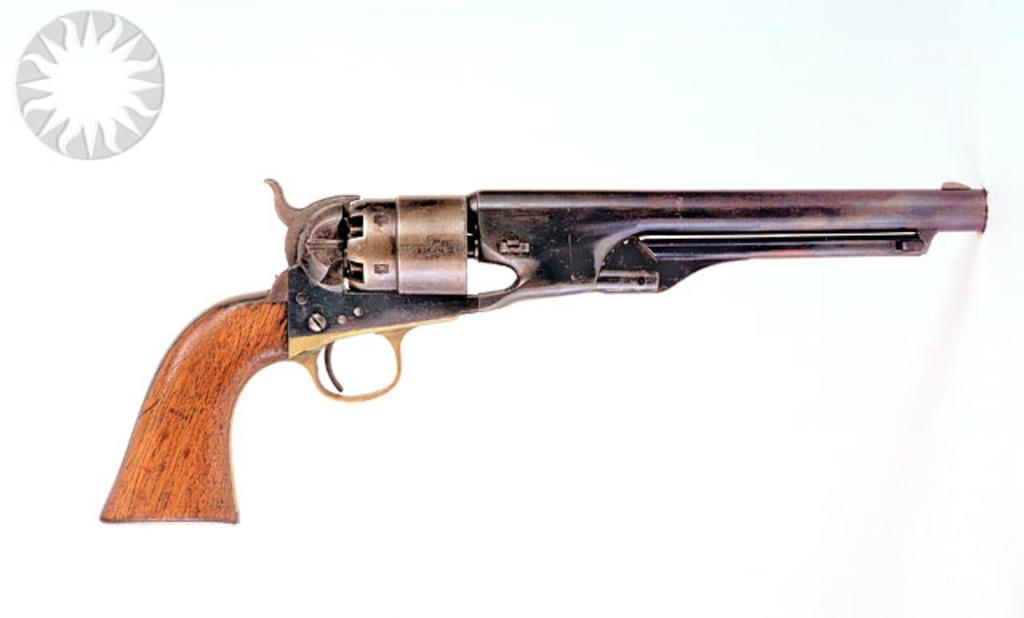Shotgun: (99, 184, 971, 503)
